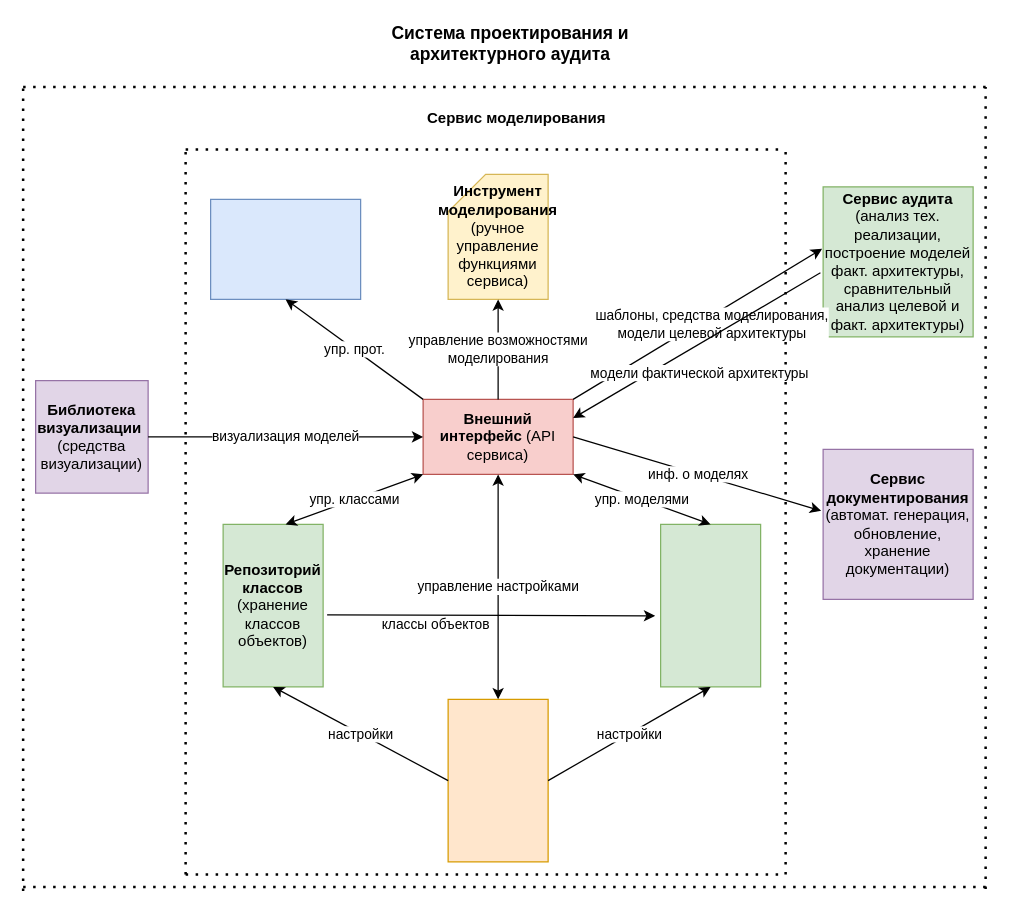
Image size: 1009x915. Some labels were removed from this diagram. Each missing label, with the box of its shape:
Механизм прототипирования (сборка прототипов на базе моделей): (209, 198, 361, 299)
Репозиторий моделей (хранение архитектурных моделей): (659, 523, 761, 687)
Хранилище настроек (хранение классов объектов): (447, 698, 548, 862)
